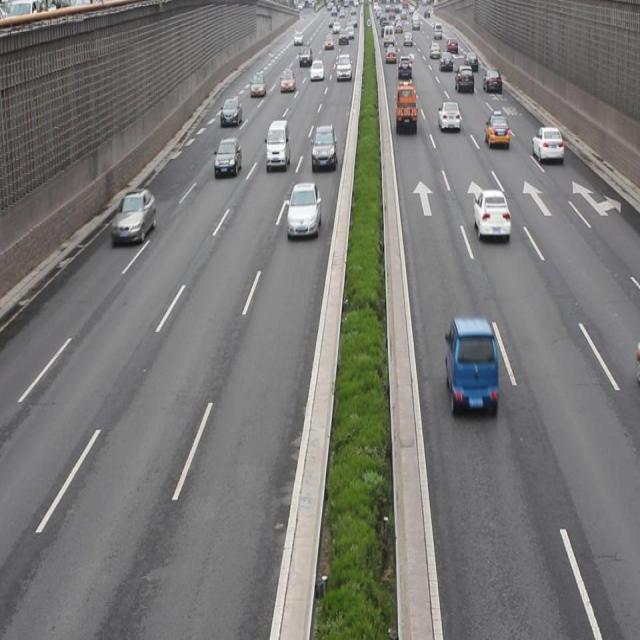bus: (395, 82, 416, 133)
car: (443, 316, 497, 415), (111, 189, 156, 244), (472, 188, 510, 243), (286, 184, 318, 238), (530, 124, 563, 166), (311, 125, 336, 169), (213, 136, 240, 176), (437, 100, 460, 135), (484, 116, 508, 148)
truck: (265, 119, 290, 169)
